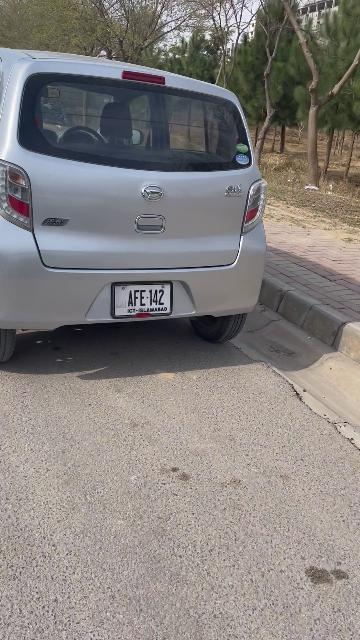plate: (113, 283, 170, 317)
